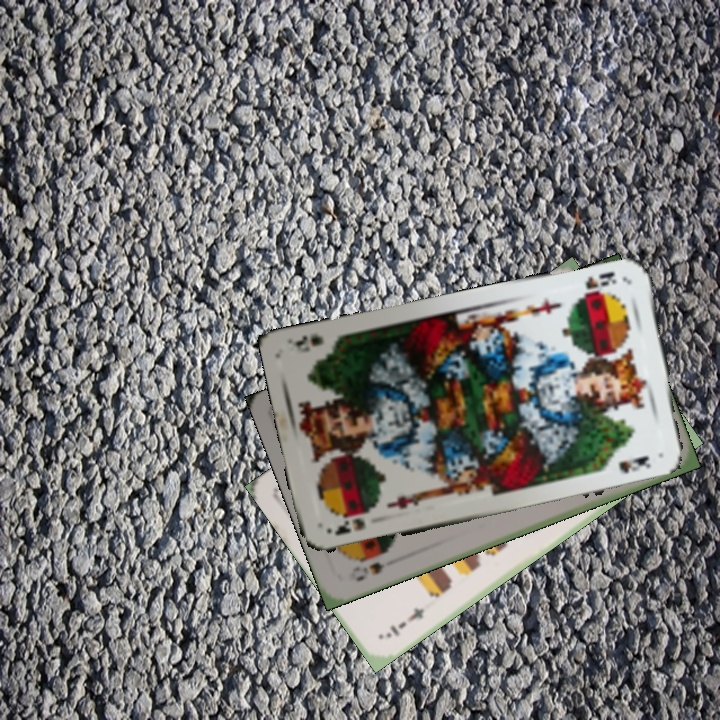E7: (381, 603, 427, 641)
SK: (571, 268, 620, 301), (331, 507, 372, 538)
SO: (352, 554, 399, 584)
